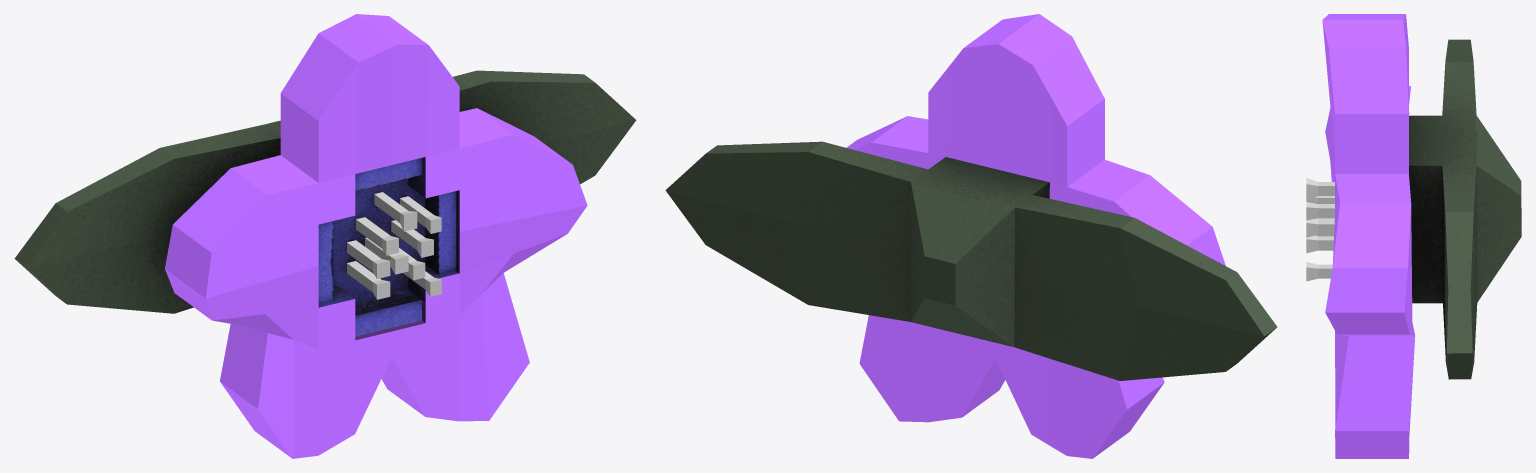
The model's file is Coletavel.fbx.
3 views of the same model, side by side, from view 1: azimuth 30°, elevation 25°; view 2: azimuth 150°, elevation 25°; view 3: azimuth 270°, elevation 25° (orthographic). The views are drawn at different scales.
Visible parts, largest first — view 1: Cube; view 2: Cube; view 3: Cube.
Part boxes in pixels (x1=…): Cube: x1=14, y1=14, x2=636, y2=458; Cube: x1=665, y1=14, x2=1277, y2=458; Cube: x1=1306, y1=14, x2=1521, y2=458.
Size of the model in its own units: 375 by 238 by 118.
Materials: 3 (1 with a texture image).
